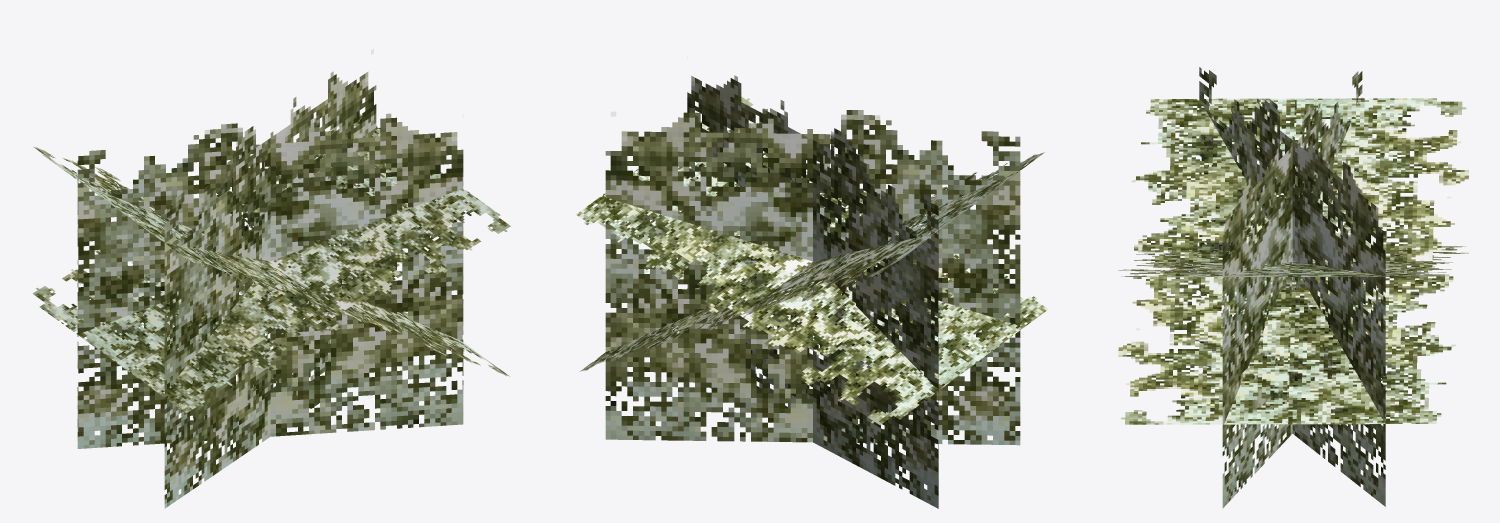
File: bush_full_overgrown_winter.glb
3 renders of one model, left to right at view 1: azimuth 30°, elevation 25°; view 2: azimuth 150°, elevation 25°; view 3: azimuth 270°, elevation 25°, orthographic. The views are drawn at different scales.
Visible parts, largest first — view 1: bush_full_overgrown_winter; view 2: bush_full_overgrown_winter; view 3: bush_full_overgrown_winter.
Part boxes in pixels (x1,y1,x2,y2): bush_full_overgrown_winter: (32,71,510,508); bush_full_overgrown_winter: (576,75,1048,508); bush_full_overgrown_winter: (1118,67,1468,508).
Bounding box in the file's own units: 1 × 1.06 × 1.08.
Materials: 1 (1 with a texture image).
